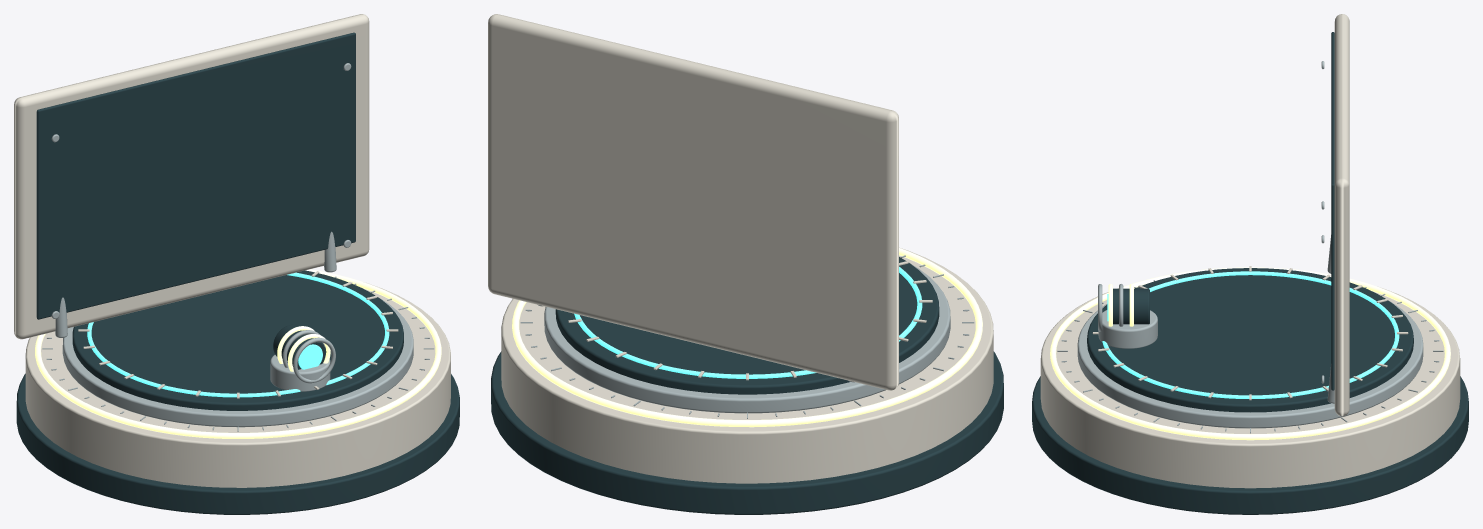
Rendered from light-projector.glb.
The picture shows the model from 3 angles, left to right: view 1: azimuth 30°, elevation 25°; view 2: azimuth 150°, elevation 25°; view 3: azimuth 270°, elevation 25°; orthographic projection. The views are drawn at different scales.
Parts seen in each view (by area): view 1: light-projector | Graphite precision, light-projector | Ceramic | warm ivory, light-projector | Brushed aluminum, light-projector | Warm edge lighting, light-projector | Ice blue light; view 2: light-projector | Ceramic | warm ivory, light-projector | Graphite precision, light-projector | Brushed aluminum, light-projector | Warm edge lighting, light-projector | Ice blue light; view 3: light-projector | Graphite precision, light-projector | Ceramic | warm ivory, light-projector | Brushed aluminum, light-projector | Warm edge lighting, light-projector | Ice blue light.
Boxes of the visible parts, left/top/right/bottom form: light-projector | Graphite precision: left=16, top=32, right=459, bottom=514; light-projector | Ceramic | warm ivory: left=14, top=14, right=450, bottom=487; light-projector | Brushed aluminum: left=42, top=63, right=434, bottom=431; light-projector | Warm edge lighting: left=35, top=269, right=441, bottom=438; light-projector | Ice blue light: left=87, top=272, right=389, bottom=397; light-projector | Ceramic | warm ivory: left=488, top=14, right=993, bottom=483; light-projector | Graphite precision: left=491, top=257, right=1003, bottom=514; light-projector | Brushed aluminum: left=520, top=255, right=974, bottom=418; light-projector | Warm edge lighting: left=512, top=248, right=982, bottom=427; light-projector | Ice blue light: left=574, top=266, right=922, bottom=378; light-projector | Graphite precision: left=1032, top=32, right=1468, bottom=514; light-projector | Ceramic | warm ivory: left=1040, top=14, right=1460, bottom=488; light-projector | Brushed aluminum: left=1057, top=61, right=1443, bottom=433; light-projector | Warm edge lighting: left=1050, top=267, right=1450, bottom=440; light-projector | Ice blue light: left=1102, top=271, right=1399, bottom=398.
Size of the model in its own units: 5 by 4.13 by 5.
